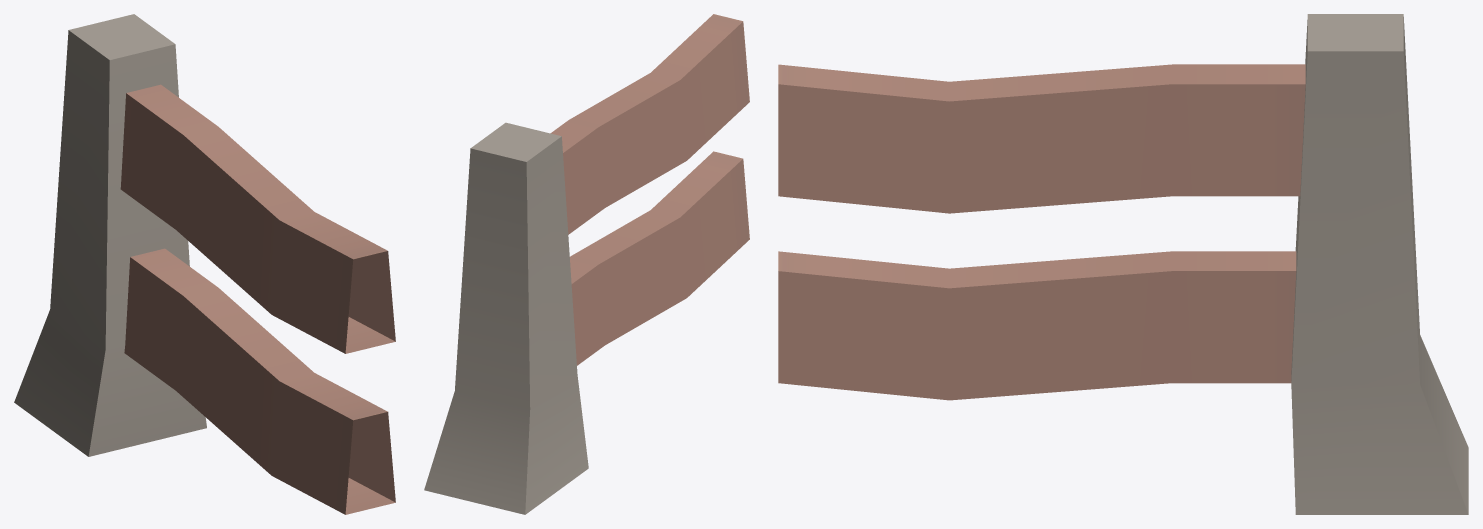
Rendered from SM_ME_Fence.fbx.
The picture shows the model from 3 angles, left to right: view 1: azimuth 30°, elevation 25°; view 2: azimuth 150°, elevation 25°; view 3: azimuth 270°, elevation 25°; orthographic projection. The views are drawn at different scales.
Parts seen in each view (by area): view 1: Fence; view 2: Fence; view 3: Fence.
Part boxes in pixels (x1,y1,x2,y2): Fence: (14,14,395,514); Fence: (424,14,749,514); Fence: (778,14,1468,514).
Size of the model in its own units: 0.0579 by 0.1804 by 0.2516.
